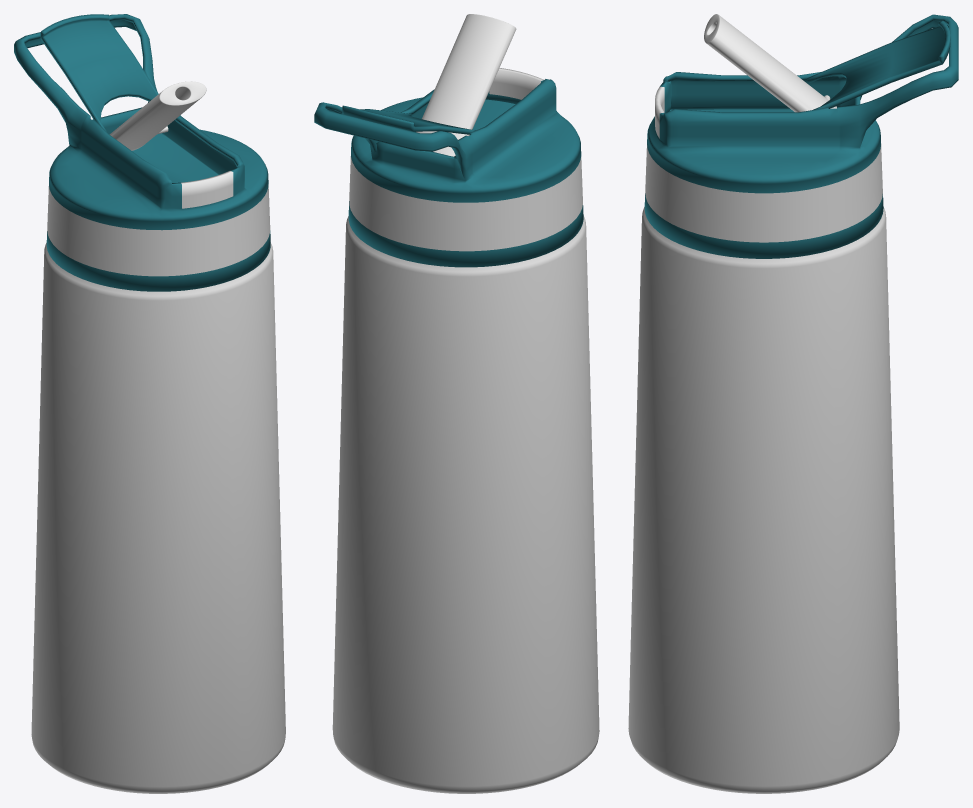
The model's file is kids_bottle.glb.
3 renders of one model, left to right at view 1: azimuth 30°, elevation 25°; view 2: azimuth 150°, elevation 25°; view 3: azimuth 270°, elevation 25°, orthographic. The views are drawn at different scales.
Parts seen in each view (by area): view 1: body, lid, lid_seal, lid_clip, spout, lid_band; view 2: body, lid, lid_seal, spout, lid_clip, lid_band; view 3: body, lid, lid_seal, lid_clip, spout.
Part boxes in pixels (x1,y1,x2,y2): body: (31,242,285,793); lid: (14,14,270,291); lid_seal: (47,184,270,276); lid_clip: (40,14,158,131); spout: (109,81,206,150); lid_band: (181,171,233,208); body: (332,216,599,793); lid: (314,79,583,267); lid_seal: (349,156,582,251); spout: (416,14,516,156); lid_clip: (342,105,475,134); lid_band: (489,68,543,99); body: (628,206,899,793); lid: (644,14,958,258); lid_seal: (645,144,882,242); lid_clip: (807,20,950,109); spout: (704,14,836,112).
Size of the model in its own units: 0.0752 by 0.22 by 0.0915.
